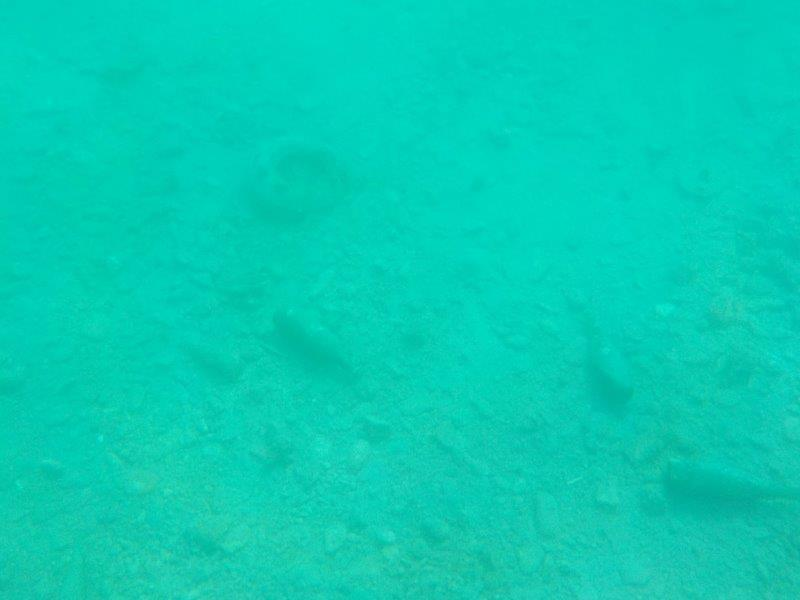bottle: (663, 450, 800, 512), (274, 301, 370, 382), (577, 308, 641, 413)
tire: (239, 129, 357, 222)
